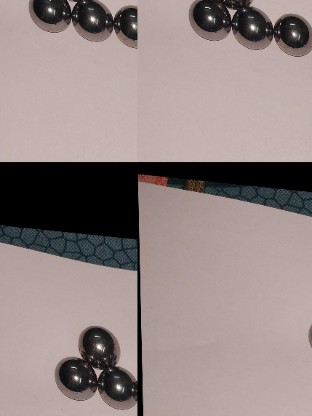ironball: (179, 0, 233, 43), (52, 350, 97, 400), (234, 0, 274, 53), (74, 323, 116, 369), (70, 1, 111, 48), (99, 363, 137, 412), (272, 11, 310, 56), (26, 0, 70, 35), (114, 2, 139, 49)
